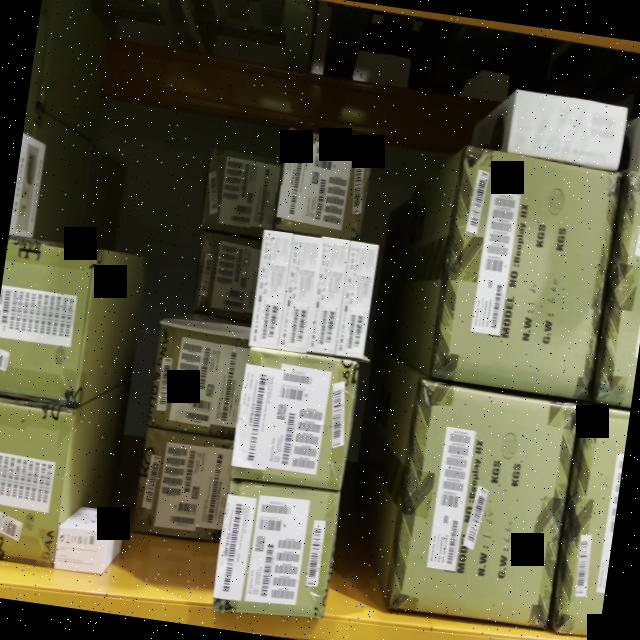box: (430, 142, 622, 398), (388, 376, 582, 627), (231, 346, 361, 494), (214, 478, 340, 615), (0, 235, 96, 405), (148, 319, 253, 442), (0, 396, 75, 567), (134, 424, 233, 542), (276, 132, 376, 242), (190, 228, 264, 322), (200, 154, 282, 235)
